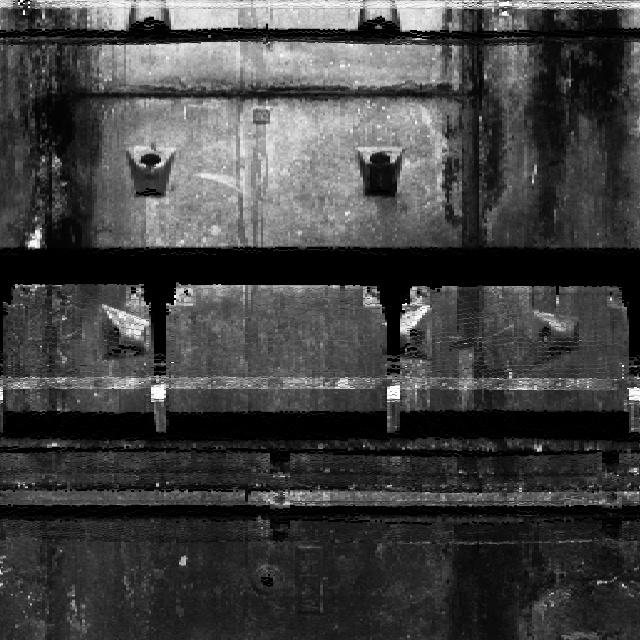leakage: (0, 0, 102, 409), (517, 8, 636, 243), (434, 0, 510, 345), (441, 436, 558, 639)
